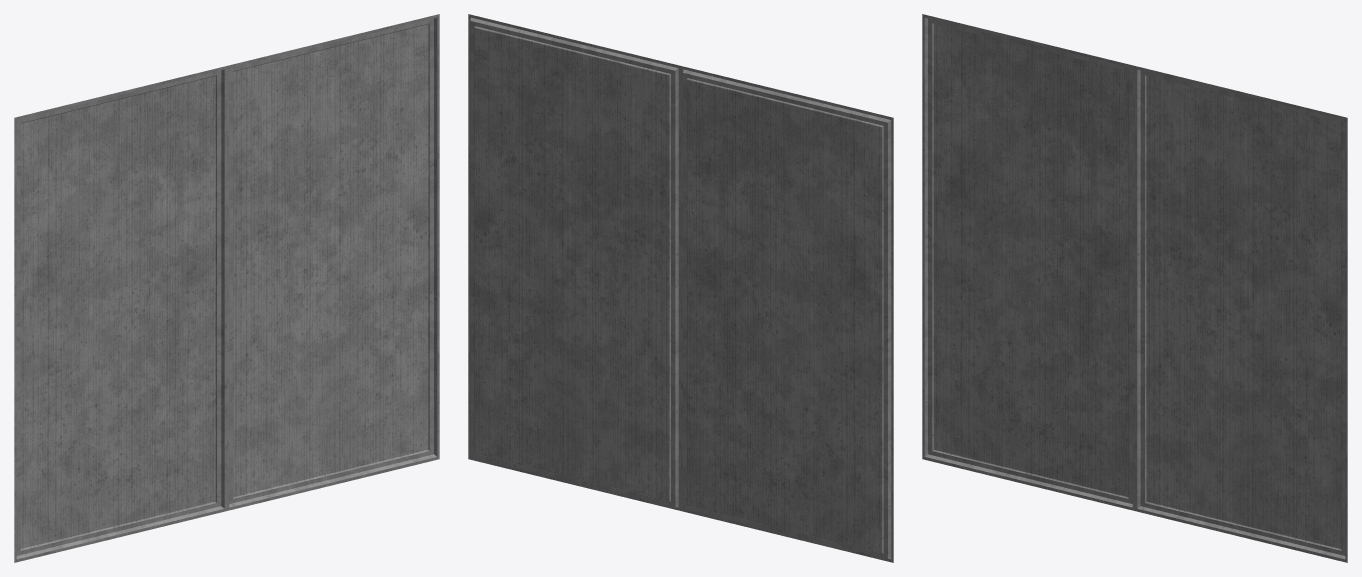
Rendered from SM_Wall_13.fbx.
The picture shows the model from 3 angles, left to right: view 1: azimuth 30°, elevation 25°; view 2: azimuth 150°, elevation 25°; view 3: azimuth 330°, elevation 25°; orthographic projection.
Parts seen in each view (by area): view 1: SM_Wall_13; view 2: SM_Wall_13; view 3: SM_Wall_13.
Part boxes in pixels (<box>): SM_Wall_13: <box>14,14,439,562</box>; SM_Wall_13: <box>468,14,893,562</box>; SM_Wall_13: <box>922,14,1347,562</box>.
Bounding box in the file's own units: 400 × 400 × 4.21.
